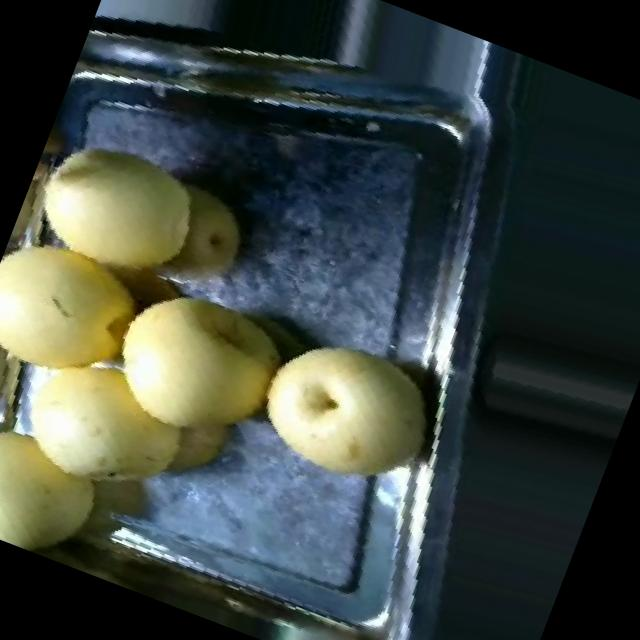Fruit: (0, 319, 260, 544), (226, 294, 475, 528), (68, 270, 317, 496), (12, 105, 234, 296), (0, 224, 180, 426), (0, 379, 137, 574)
